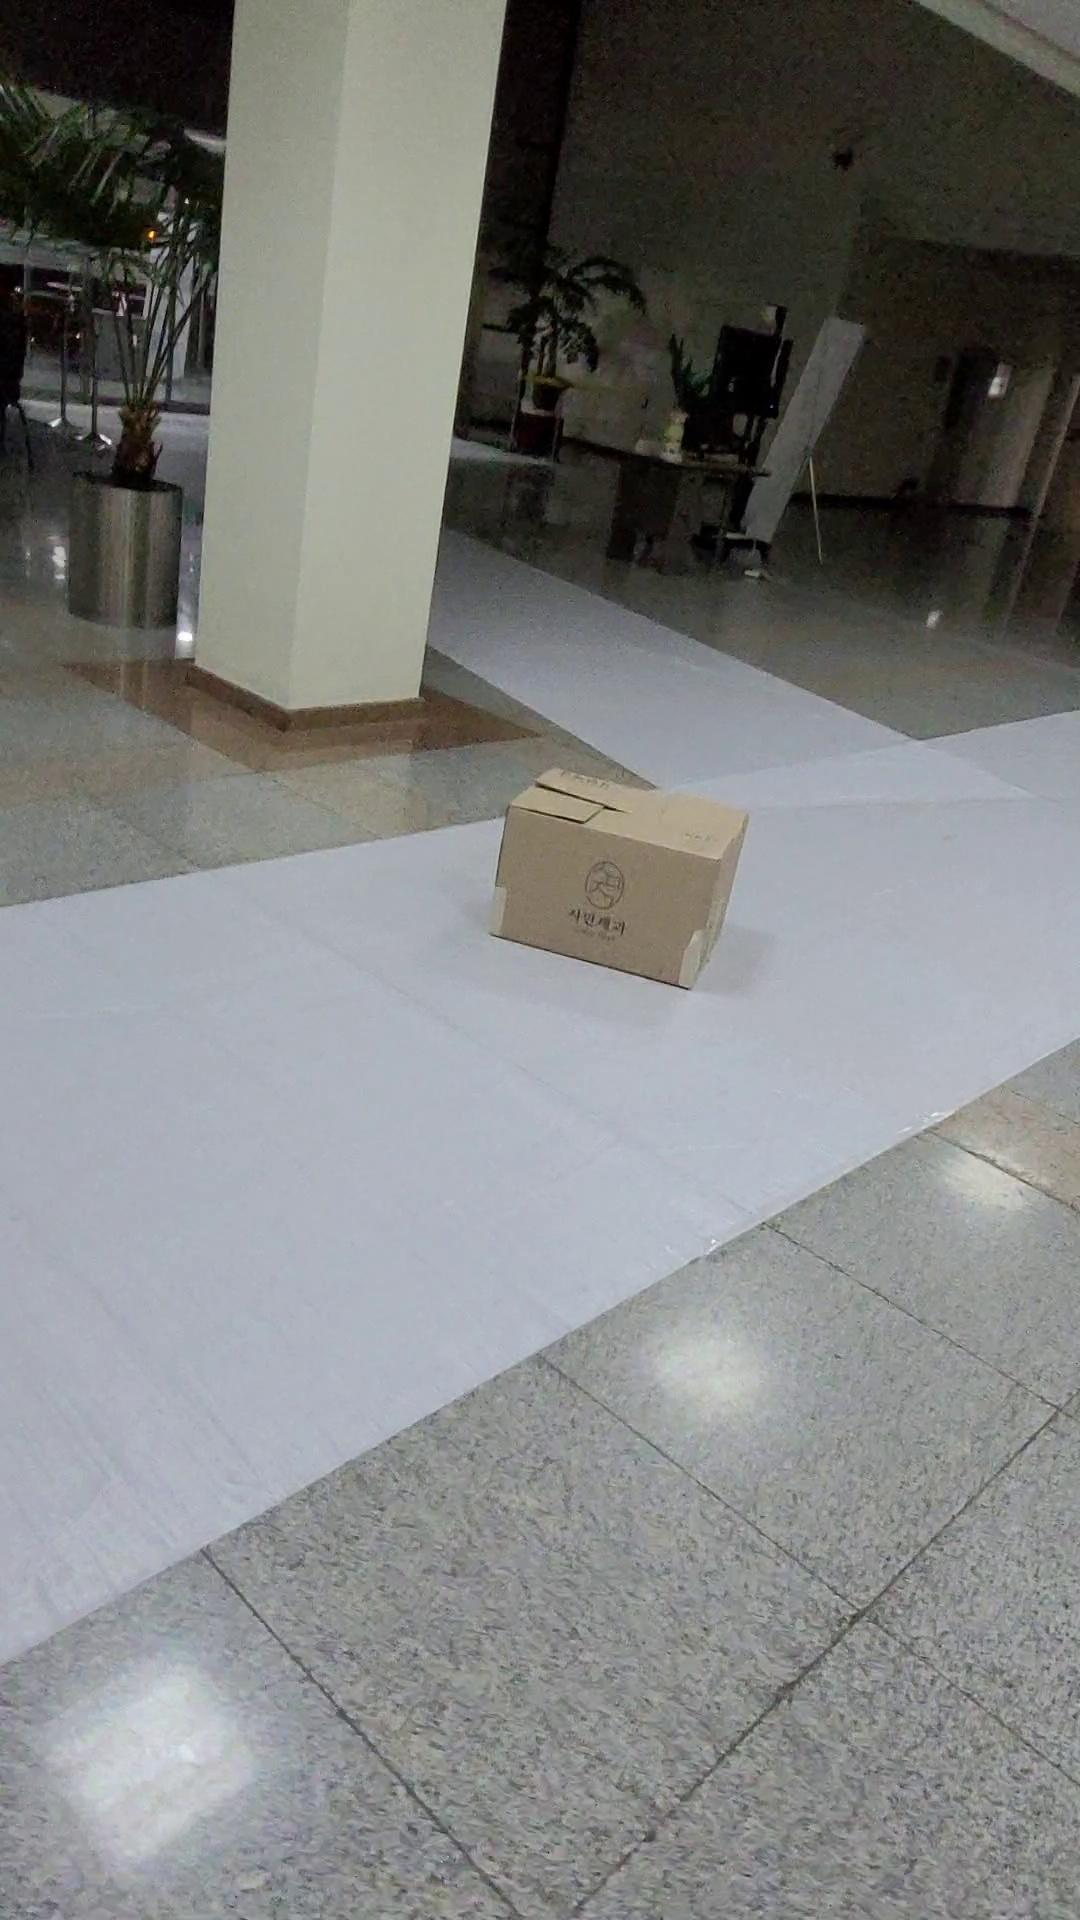Box: (463, 745, 785, 1017)
